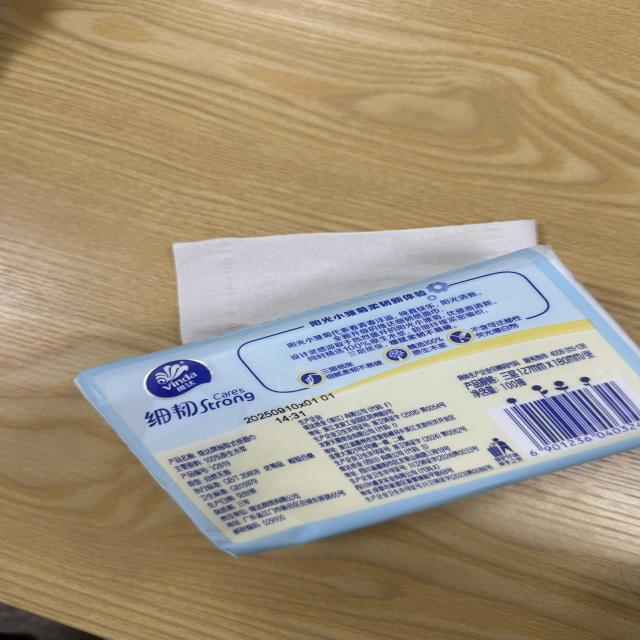tissue: (78, 220, 640, 556)
